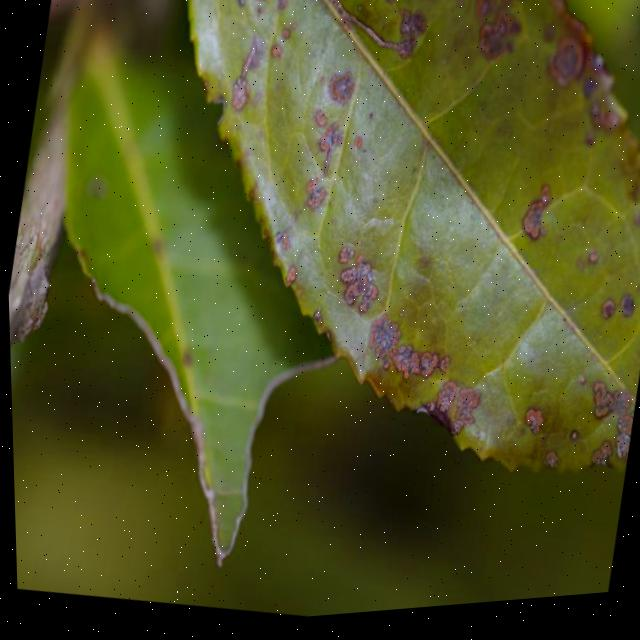Tea red rust: (117, 0, 640, 486)
